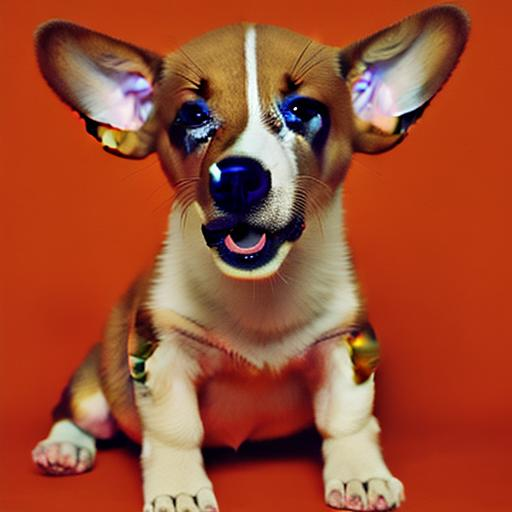eye: (279, 97, 334, 143), (165, 102, 222, 139)
